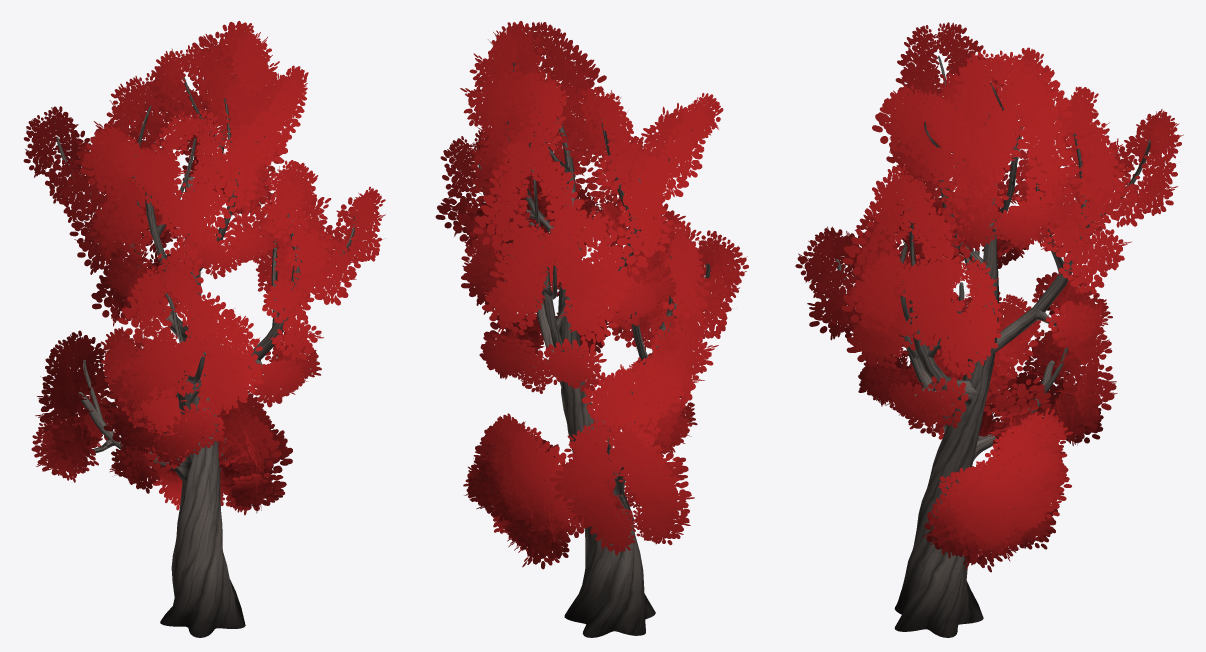
File: TwistedTree_4.gltf
3 views of the same model, side by side, from view 1: azimuth 30°, elevation 25°; view 2: azimuth 150°, elevation 25°; view 3: azimuth 270°, elevation 25° (orthographic). The views are drawn at different scales.
Parts seen in each view (by area): view 1: TwistedTree_4; view 2: TwistedTree_4; view 3: TwistedTree_4.
Boxes of the visible parts, x1,y1,x2,y2 form: TwistedTree_4: [23, 21, 385, 637]; TwistedTree_4: [435, 21, 748, 637]; TwistedTree_4: [795, 22, 1183, 637].
Size of the model in its own units: 10.38 by 18.74 by 11.29.
Materials: 2 (2 with a texture image).
